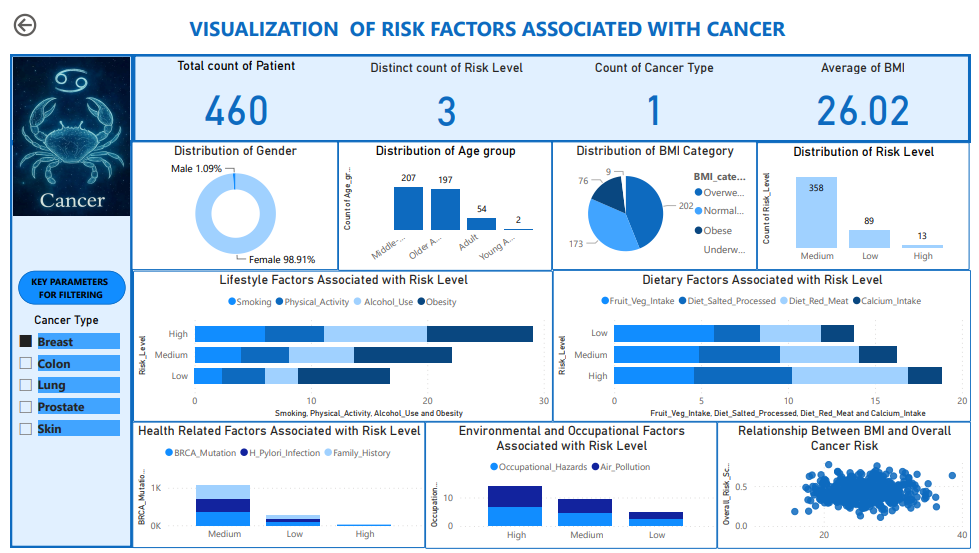

What the dashboard file says about the page in this screenshot:
{"tool":"powerbi","page":{"name":"Page 1","canvas":[1280,720],"ordinal":0},"visuals":[{"type":"shape","box":[0,176.6,163.2,539.7],"z":500},{"type":"textbox","box":[0,0,1279.3,58.6],"z":1000},{"type":"actionButton","box":[0,0,100,40],"z":2000},{"type":"slicer","title":"Cancer Type","fields":{"Values":["cancer-risk-factors.Cancer_Type"]},"box":[0,403.3,151.4,212],"z":3000},{"type":"shape","box":[163.8,58.6,1115.5,117.2],"z":4000},{"type":"shape","box":[0,58.6,163.8,117.2],"z":5000},{"type":"card","title":"Total count of Patient","fields":{"Values":["CountNonNull(cancer-risk-factors.Patient_ID)"]},"box":[192.3,64.1,219.2,106.2],"z":6000},{"type":"card","title":"Distinct count of Risk Level","fields":{"Values":["Count(cancer-risk-factors.Risk_Level)"]},"box":[470.5,65.8,222.6,106.2],"z":7000},{"type":"card","title":"Count of Cancer Type","fields":{"Values":["Count(cancer-risk-factors.Cancer_Type)"]},"box":[748.8,65.8,219.2,104.6],"z":8000},{"type":"card","title":"Average of BMI","fields":{"Values":["Avg(cancer-risk-factors.BMI)"]},"box":[1027,65.8,219.2,104.6],"z":9000},{"type":"donutChart","title":"Distribution of Gender ","fields":{"Category":["cancer-risk-factors.Gender"],"Y":["CountNonNull(cancer-risk-factors.Gender)"]},"box":[162,175.4,275.3,170.6],"z":10000},{"type":"columnChart","title":"Distribution of Age group","fields":{"Category":["cancer-risk-factors.Age_group"],"Y":["CountNonNull(cancer-risk-factors.Age_group)"]},"box":[436.8,175.4,285,172],"z":11000},{"type":"pieChart","title":"Distribution of BMI Category","fields":{"Category":["cancer-risk-factors.BMI_category"],"Y":["CountNonNull(cancer-risk-factors.BMI_category)"]},"box":[721.8,175.4,273.2,170.3],"z":12000},{"type":"columnChart","title":"Distribution of Risk Level","fields":{"Category":["cancer-risk-factors.Risk_Level"],"Y":["CountNonNull(cancer-risk-factors.Risk_Level)"]},"box":[994.9,175.6,283.3,170.5],"z":13000},{"type":"barChart","title":"Dietary Factors Associated with Risk Level","fields":{"Category":["cancer-risk-factors.Risk_Level"],"Y":["Avg(cancer-risk-factors.Fruit_Veg_Intake)","Avg(cancer-risk-factors.Diet_Salted_Processed)","Avg(cancer-risk-factors.Diet_Red_Meat)","Avg(cancer-risk-factors.Calcium_Intake)"]},"box":[723.2,346.4,557.1,201.8],"z":14000},{"type":"barChart","title":"Lifestyle Factors Associated with Risk Level","fields":{"Category":["cancer-risk-factors.Risk_Level"],"Y":["Avg(cancer-risk-factors.Smoking)","Avg(cancer-risk-factors.Physical_Activity)","Avg(cancer-risk-factors.Alcohol_Use)","Avg(cancer-risk-factors.Obesity)"]},"box":[163.6,347.4,559.9,200.7],"z":15000},{"type":"columnChart","title":"Health Related Factors Associated with Risk Level","fields":{"Category":["cancer-risk-factors.Risk_Level"],"Y":["CountNonNull(cancer-risk-factors.BRCA_Mutation)","CountNonNull(cancer-risk-factors.H_Pylori_Infection)","CountNonNull(cancer-risk-factors.Family_History)"]},"box":[163.2,548.2,389.8,168.1],"z":16000},{"type":"columnChart","title":"Environmental and Occupational Factors Associated with Risk Level","fields":{"Category":["cancer-risk-factors.Risk_Level"],"Y":["Avg(cancer-risk-factors.Occupational_Hazards)","Avg(cancer-risk-factors.Air_Pollution)"]},"box":[553.3,548.3,388.3,168.3],"z":17000},{"type":"scatterChart","title":"Relationship Between BMI and Overall Cancer Risk","fields":{"Y":["cancer-risk-factors.Overall_Risk_Score"],"X":["Sum(cancer-risk-factors.BMI)"]},"box":[941.7,548.3,338.3,168.3],"z":18000},{"type":"shape","box":[11,346.8,143.1,45.4],"z":19000},{"type":"textbox","box":[12.4,346.8,139,45.4],"z":20000},{"type":"image","box":[0,57.8,163.8,220.2],"z":21000}]}

Visuals, with their boxes in screenshot pixels (x1, y1, x2, y2), scaled from the page's 1280x720 canvas onto the 979x553 screenshot:
shape: [left=0, top=136, right=125, bottom=550]
textbox: [left=0, top=0, right=978, bottom=45]
actionButton: [left=0, top=0, right=76, bottom=31]
"Cancer Type" slicer: [left=0, top=310, right=116, bottom=473]
shape: [left=125, top=45, right=978, bottom=135]
shape: [left=0, top=45, right=125, bottom=135]
"Total count of Patient" card: [left=147, top=49, right=315, bottom=131]
"Distinct count of Risk Level" card: [left=360, top=51, right=530, bottom=132]
"Count of Cancer Type" card: [left=573, top=51, right=740, bottom=131]
"Average of BMI" card: [left=785, top=51, right=953, bottom=131]
"Distribution of Gender " donutChart: [left=124, top=135, right=334, bottom=266]
"Distribution of Age group" columnChart: [left=334, top=135, right=552, bottom=267]
"Distribution of BMI Category" pieChart: [left=552, top=135, right=761, bottom=266]
"Distribution of Risk Level" columnChart: [left=761, top=135, right=978, bottom=266]
"Dietary Factors Associated with Risk Level" barChart: [left=553, top=266, right=978, bottom=421]
"Lifestyle Factors Associated with Risk Level" barChart: [left=125, top=267, right=553, bottom=421]
"Health Related Factors Associated with Risk Level" columnChart: [left=125, top=421, right=423, bottom=550]
"Environmental and Occupational Factors Associated with Risk Level" columnChart: [left=423, top=421, right=720, bottom=550]
"Relationship Between BMI and Overall Cancer Risk" scatterChart: [left=720, top=421, right=978, bottom=550]
shape: [left=8, top=266, right=118, bottom=301]
textbox: [left=9, top=266, right=116, bottom=301]
image: [left=0, top=44, right=125, bottom=214]
